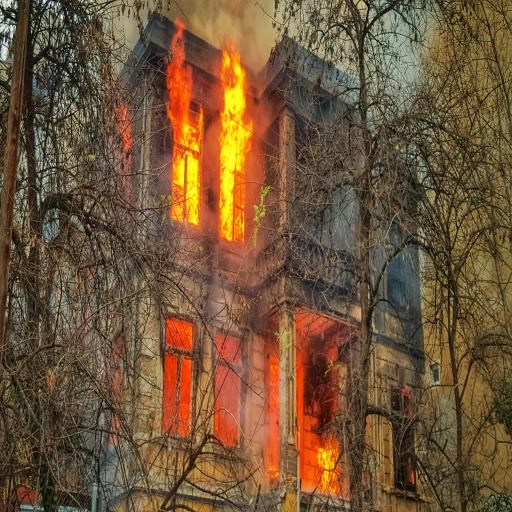buildingfire: (111, 18, 471, 512)
